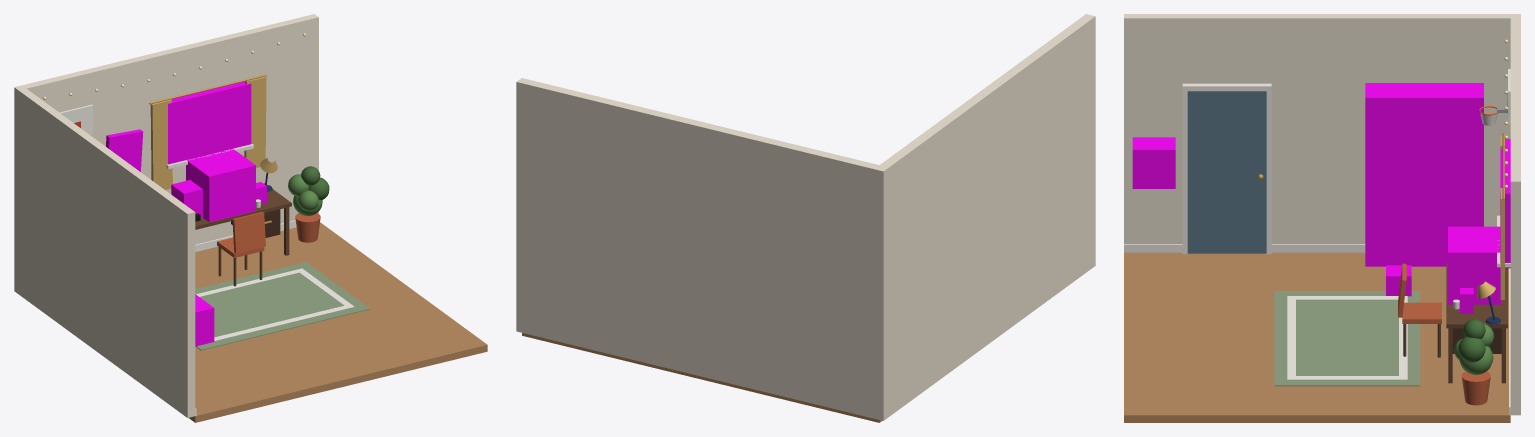
File: room.glb
The picture shows the model from 3 angles, left to right: view 1: azimuth 30°, elevation 25°; view 2: azimuth 150°, elevation 25°; view 3: azimuth 270°, elevation 25°; orthographic projection. The views are drawn at different scales.
Visible parts, largest first — view 1: decor__wall_left, decor__floor, decor__wall_back, hit__window, decor__rug__03, hit__computer, decor__rug, decor__curtain__01, decor__curtain__02, decor__rug__02, decor__chair__02, hit__letter (+5 smaller); view 2: decor__wall_back, decor__wall_left, decor__floor; view 3: decor__wall_left, decor__floor, hit__shelf, decor__door__01, decor__rug__03, decor__wall_back, decor__rug, hit__computer, hit__contact, decor__rug__02, decor__baseboard__02, decor__desk__01 (+12 smaller).
Part boxes in pixels (bbox=[...]): decor__wall_left: bbox=[18, 88, 195, 417]; decor__floor: bbox=[189, 222, 487, 422]; decor__wall_back: bbox=[14, 14, 318, 293]; hit__window: bbox=[168, 81, 251, 164]; decor__rug__03: bbox=[200, 272, 343, 337]; hit__computer: bbox=[186, 149, 255, 222]; decor__rug: bbox=[195, 262, 369, 350]; decor__curtain__01: bbox=[150, 99, 172, 189]; decor__curtain__02: bbox=[244, 76, 266, 167]; decor__rug__02: bbox=[196, 268, 354, 340]; decor__chair__02: bbox=[232, 211, 265, 253]; hit__letter: bbox=[106, 129, 143, 171]; decor__wall_back: bbox=[516, 78, 888, 420]; decor__wall_left: bbox=[880, 14, 1095, 416]; decor__floor: bbox=[522, 333, 882, 422]; decor__wall_left: bbox=[1124, 14, 1510, 243]; decor__floor: bbox=[1124, 252, 1510, 422]; hit__shelf: bbox=[1365, 83, 1483, 266]; decor__door__01: bbox=[1187, 91, 1266, 253]; decor__rug__03: bbox=[1296, 299, 1398, 375]; decor__wall_back: bbox=[1510, 14, 1520, 415]; decor__rug: bbox=[1274, 291, 1420, 386]; hit__computer: bbox=[1448, 226, 1500, 304]; hit__contact: bbox=[1132, 137, 1175, 188]; decor__rug__02: bbox=[1287, 296, 1407, 379]; decor__baseboard__02: bbox=[1124, 244, 1365, 252]; decor__desk__01: bbox=[1446, 262, 1507, 328].
Size of the model in its own units: 4.62 by 3.1 by 4.62.
